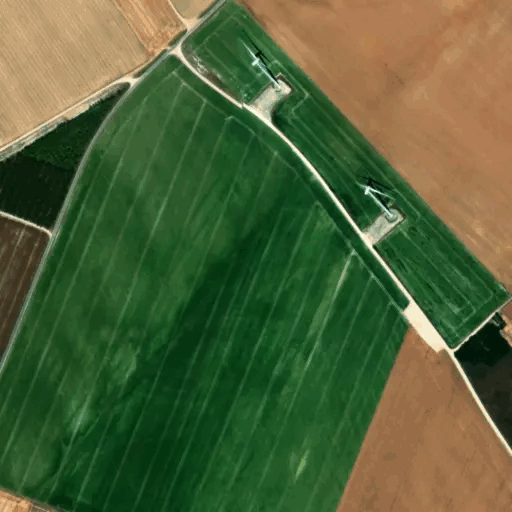wt: (240, 34, 283, 92), (353, 173, 401, 224)
